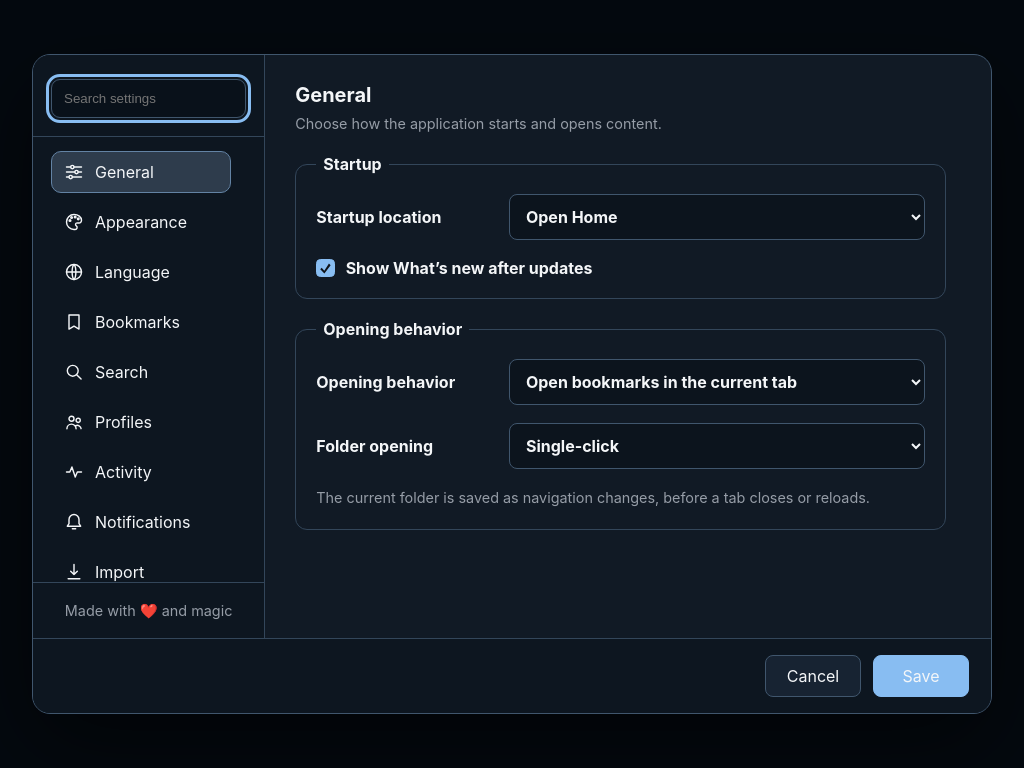
Test case: BookmarkDisplaySettingsDialog › highlights a matching phrase in the currently displayed select choice
In the search field with placeholder "Search settings": (149, 98) [51,79,246,118], type "bookmarks"
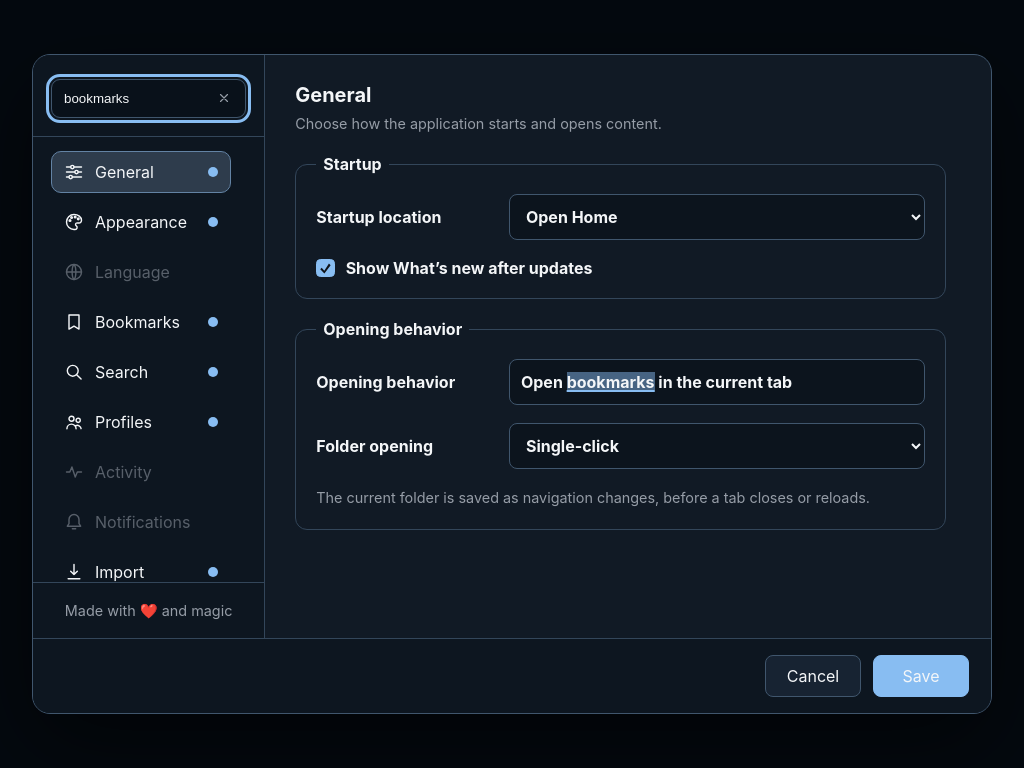
Expected: the text "bookmarks" is shown, [567,372,655,392]
